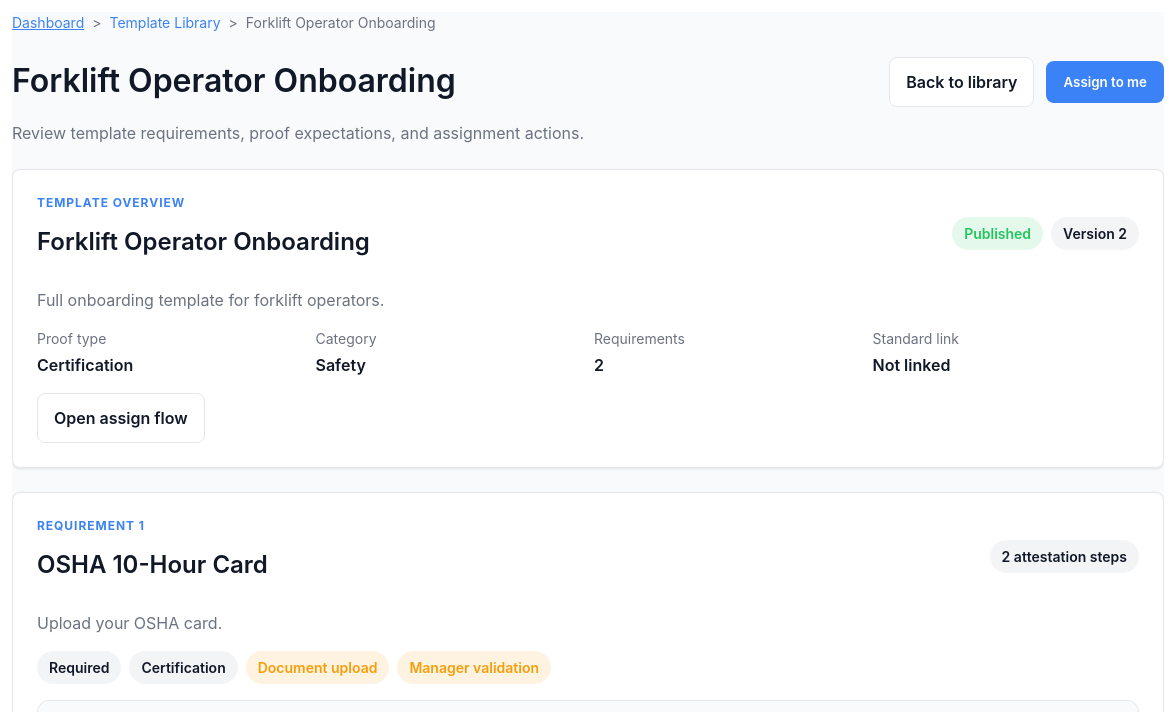
Test case: TemplateDetailPage › allows self-assignment for supervisors
The width and height of the screenshot is (1176, 712).
Click the button "Assign to me" at (1105, 82), box [1046,61,1164,103]
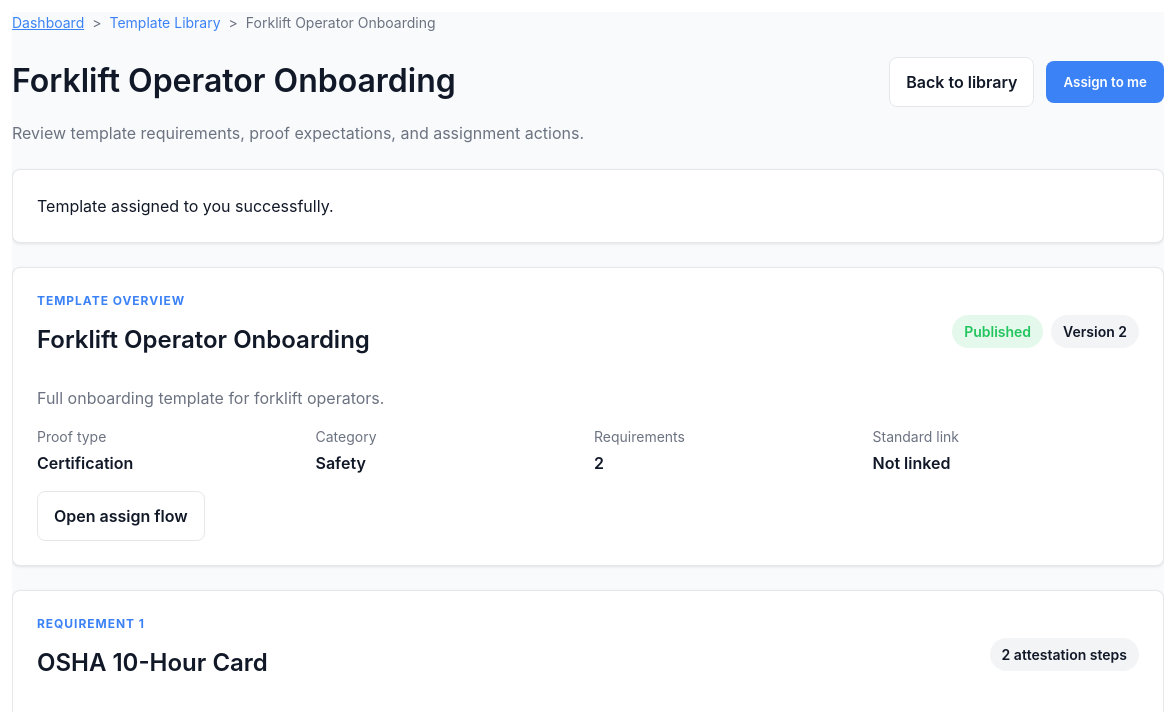
Expected: the text "Template assigned to you successfully." is shown, [12,169,1164,243]
